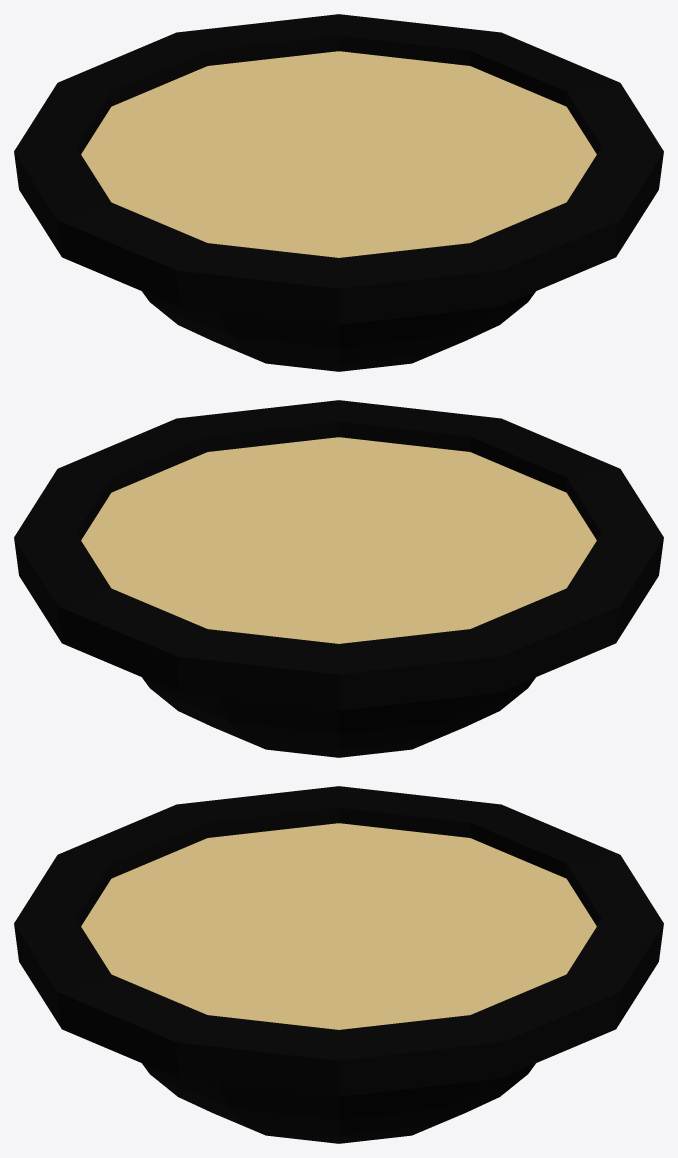
The model's file is dock.glb.
3 views of the same model, one above another, from view 1: azimuth 30°, elevation 25°; view 2: azimuth 150°, elevation 25°; view 3: azimuth 270°, elevation 25° (orthographic).
Visible parts, largest first — view 1: dock; view 2: dock; view 3: dock.
Boxes of the visible parts, x1,y1,x2,y2 form: dock: (14, 14, 663, 371); dock: (14, 400, 663, 757); dock: (14, 786, 663, 1143).
Bounding box in the file's own units: 15 × 5 × 15.
